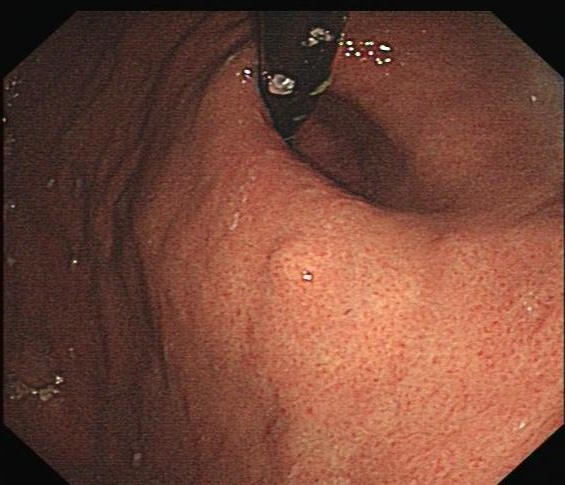Polyp: (264, 243, 316, 295)
